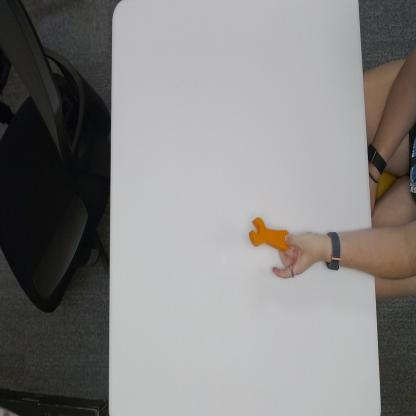Hand: (270, 227, 326, 287)
Screwdriver: (248, 213, 291, 252)
